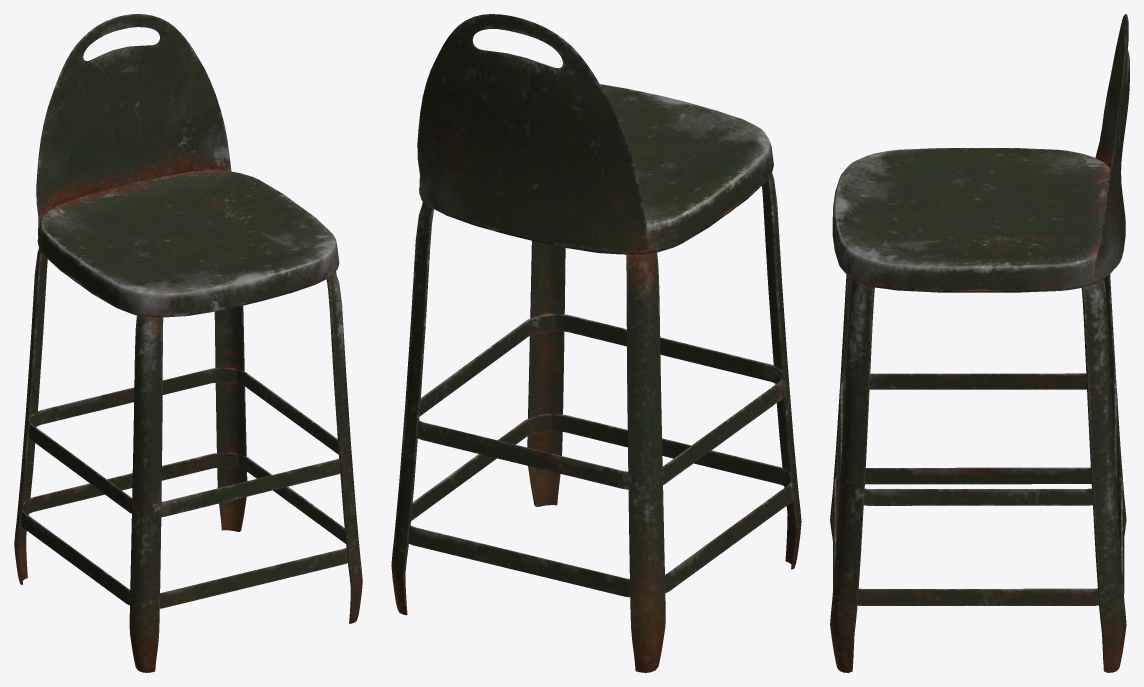
File: metal_stool_03.glb
The picture shows the model from 3 angles, left to right: view 1: azimuth 30°, elevation 25°; view 2: azimuth 150°, elevation 25°; view 3: azimuth 270°, elevation 25°; orthographic projection. The views are drawn at different scales.
Parts seen in each view (by area): view 1: metal_stool_03; view 2: metal_stool_03; view 3: metal_stool_03.
Part boxes in pixels (left/top/right/bottom): metal_stool_03: left=14, top=14, right=362, bottom=672; metal_stool_03: left=391, top=14, right=801, bottom=672; metal_stool_03: left=830, top=14, right=1129, bottom=672.
Size of the model in its own units: 0.4606 by 1.02 by 0.4706.
Materials: 1 (1 with a texture image).
